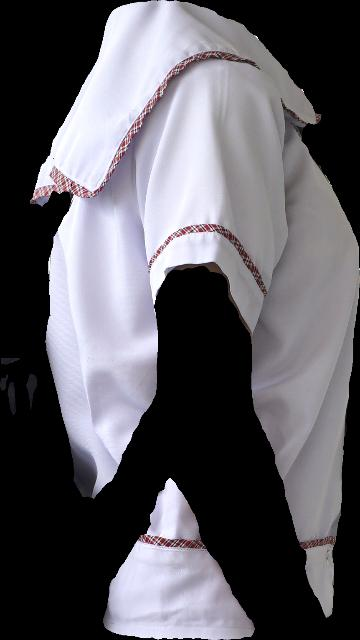pologirl: (30, 0, 359, 617)
